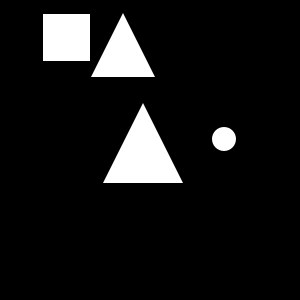circle: (43, 14, 90, 61)
rectangle: (212, 127, 236, 151)
triangle: (103, 103, 183, 183), (91, 13, 155, 77)
